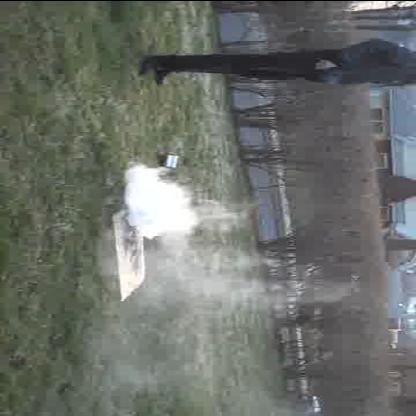Smoke: (128, 165, 200, 246)
